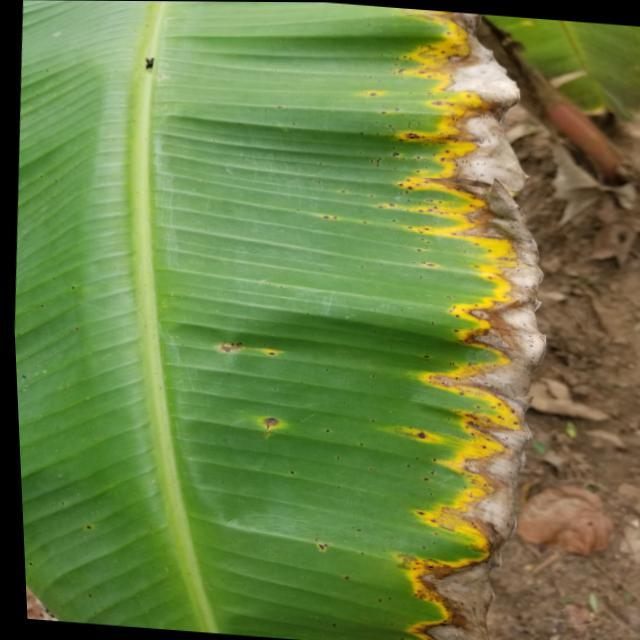Early_rust: (215, 6, 554, 640)
